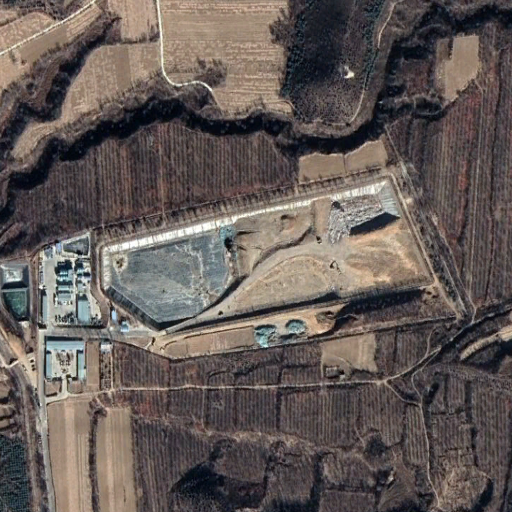lf: (102, 182, 435, 332)
